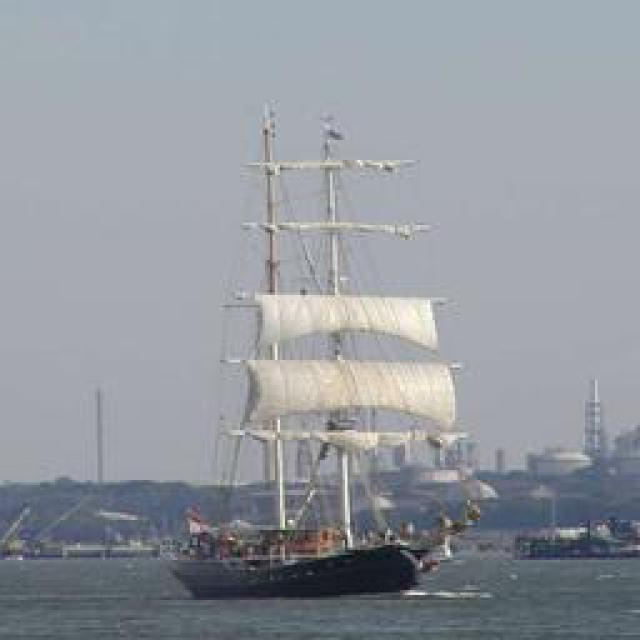Ship: (171, 539, 421, 602)
